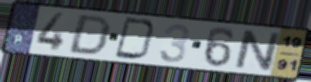3: (158, 23, 191, 64)
4: (33, 11, 67, 53)
6: (203, 26, 236, 69)
D: (112, 15, 159, 61), (65, 13, 114, 57)
N: (233, 28, 281, 73)
